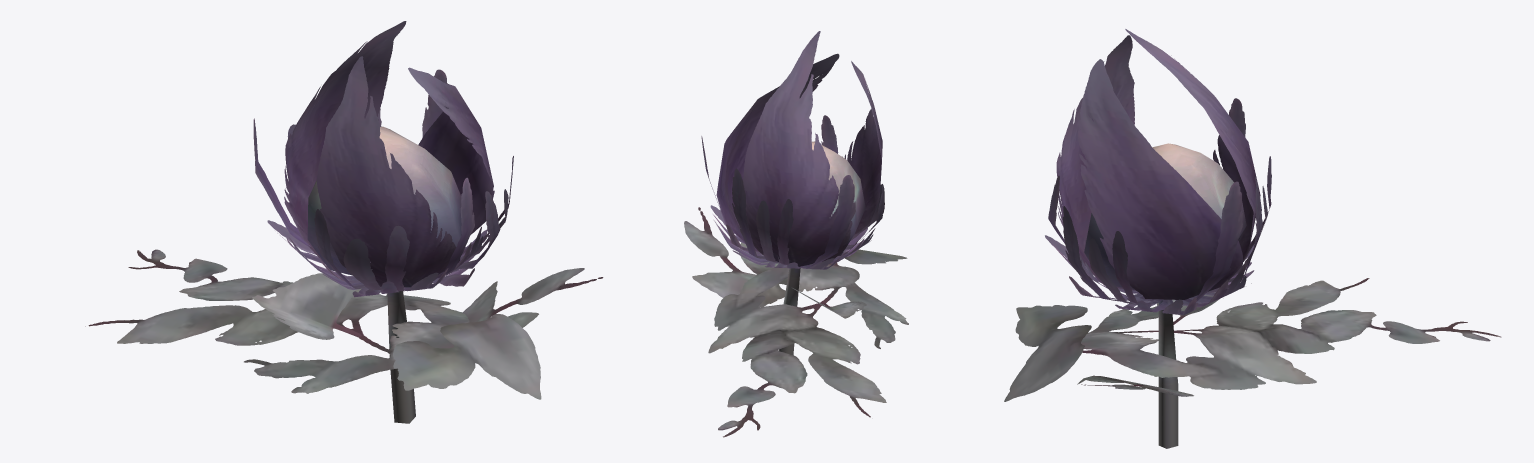
3 renders of one model, left to right at view 1: azimuth 30°, elevation 25°; view 2: azimuth 150°, elevation 25°; view 3: azimuth 270°, elevation 25°, orthographic. The views are drawn at different scales.
Size of the model in its own units: 1.83 by 1.76 by 2.04.
Materials: 1 (1 with a texture image).
